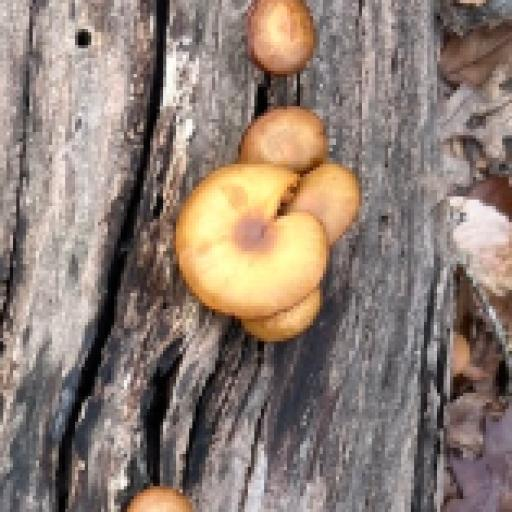mushroom: (170, 96, 370, 364)
